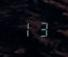one: (19, 20, 33, 37)
three: (34, 20, 48, 37)
